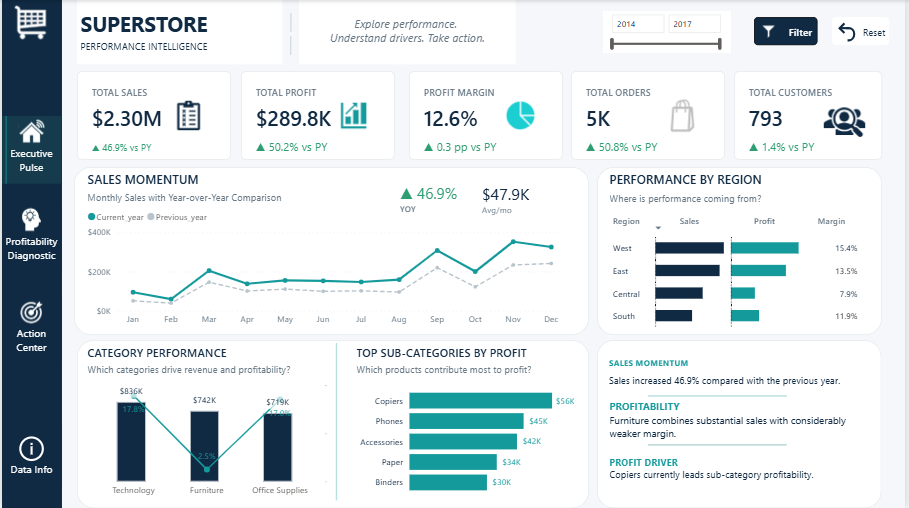

The dashboard page shown, as its layout file describes it:
{"tool":"powerbi","page":{"name":"Executive Pulse","canvas":[1280,720],"ordinal":0},"visuals":[{"type":"textbox","title":"SUPERSTORE","box":[105.8,0,290.6,90.7],"z":0},{"type":"shape","box":[105.8,482.1,725.7,238.5],"z":1000},{"type":"shape","box":[843.3,236.7,403.9,238.1],"z":2000},{"type":"shape","box":[102,236.7,729.9,238.1],"z":3000},{"type":"shape","box":[0,0,85,720.1],"z":4000},{"type":"shape","box":[352.9,18.6,113.1,27],"z":5000},{"type":"textbox","title":"Explore performance. Understand drivers. Take action.","box":[421.6,0,307.4,90.7],"z":6000},{"type":"shape","box":[352.8,50.4,112.5,26.9],"z":7000},{"type":"actionButton","box":[1066.4,24.3,90,40.4],"z":8000},{"type":"actionButton","box":[1175.7,24.3,80.7,40.4],"z":9000},{"type":"actionButton","box":[0,164.4,83.6,96.4],"z":10000},{"type":"shape","box":[0,164.6,11.8,95.7],"z":11000},{"type":"actionButton","box":[0,289.1,83.6,95],"z":12000},{"type":"actionButton","box":[0,419.5,83.6,96.4],"z":13000},{"type":"actionButton","box":[0,598.1,83.6,95],"z":14000},{"type":"actionButton","box":[0,0,84,63.8],"z":15000},{"type":"cardVisual","fields":{"Data":["Key measures.Total Sales"]},"box":[105.8,100.8,218.4,126],"z":16000},{"type":"cardVisual","fields":{"Data":["Key measures.Total_profit"]},"box":[339.3,100.8,218.4,126],"z":17000},{"type":"cardVisual","fields":{"Data":["Key measures.Total_customer"]},"box":[1037.5,100.6,209.8,126.1],"z":18000},{"type":"cardVisual","fields":{"Data":["Key measures.Total_orders"]},"box":[806.3,100.8,218.4,126],"z":19000},{"type":"cardVisual","fields":{"Data":["Key measures.Profit_margin %"]},"box":[576.2,100.8,218.4,126],"z":20000},{"type":"lineChart","title":"SALES MOMENTUM","fields":{"Y":["Key measures.Total_sales","Key measures.Previous_year_sales"],"Category":["Date.Month Short"]},"box":[116.2,242.4,688.8,228.2],"z":21000},{"type":"cardVisual","fields":{"Data":["Key measures.Sales_YoY_indicator_mini"]},"box":[547.1,242.4,116.2,70.9],"z":22000},{"type":"cardVisual","fields":{"Data":["Key measures.Average Monthly Sales"]},"box":[663.3,242.4,116.2,70.9],"z":23000},{"type":"pivotTable","title":"PERFORMANCE BY REGION","fields":{"Rows":["Superstore_data.Region"],"Values":["Key measures.Total_sales","Key measures.Total_profit","Key measures.Profit_margin"]},"box":[856.7,241.9,374.6,226.8],"z":24000},{"type":"lineClusteredColumnComboChart","title":"CATEGORY PERFORMANCE","fields":{"Y":["Key measures.Total_sales"],"Y2":["Key measures.Profit_margin"],"Category":["Superstore_data.Category"]},"box":[115.9,488.8,381.3,223.4],"z":25000},{"type":"clusteredBarChart","title":"TOP SUB-CATEGORIES BY PROFIT","fields":{"Y":["Key measures.Total_profit"],"Category":["Superstore_data.Sub_category"]},"box":[497.2,488.8,319.2,223.4],"z":26000},{"type":"shape","box":[843.3,482.1,403.1,238.5],"z":27000},{"type":"cardVisual","fields":{"Data":["Key measures.Sales Insight"]},"box":[843.3,488.8,388,72.2],"z":28000},{"type":"textbox","box":[856.7,561,374.6,70.6],"z":29000},{"type":"textbox","box":[856.7,641.7,374.6,70.6],"z":30000},{"type":"shape","box":[324.2,485.5,299,223.4],"z":31000},{"type":"shape","box":[915.5,525.8,196.5,70.6],"z":32000},{"type":"shape","box":[915.5,591.3,196.5,79],"z":33000},{"type":"slicer","fields":{"Values":["Date.Year"]},"box":[851.7,15.1,181.4,58.8],"z":35000},{"type":"actionButton","box":[235.3,134.6,70.9,58.1],"z":35001},{"type":"actionButton","box":[469.1,134.6,73.7,58.1],"z":35002},{"type":"actionButton","box":[705.8,134.6,73.7,58.1],"z":35003},{"type":"actionButton","box":[935.4,134.6,78,58.1],"z":35004},{"type":"actionButton","box":[1156.5,134.6,75.1,78],"z":35005}]}

Visuals, with their boxes in screenshot pixels (x1, y1, x2, y2), scaled from the page's 1280x720 canvas onto the 909x508 screenshot:
"SUPERSTORE" textbox: {"x1": 75, "y1": 0, "x2": 282, "y2": 64}
shape: {"x1": 75, "y1": 340, "x2": 590, "y2": 507}
shape: {"x1": 599, "y1": 167, "x2": 886, "y2": 335}
shape: {"x1": 72, "y1": 167, "x2": 591, "y2": 335}
shape: {"x1": 0, "y1": 0, "x2": 60, "y2": 507}
shape: {"x1": 251, "y1": 13, "x2": 331, "y2": 32}
"Explore performance. Understand drivers. Take action." textbox: {"x1": 299, "y1": 0, "x2": 518, "y2": 64}
shape: {"x1": 251, "y1": 36, "x2": 330, "y2": 55}
actionButton: {"x1": 757, "y1": 17, "x2": 821, "y2": 46}
actionButton: {"x1": 835, "y1": 17, "x2": 892, "y2": 46}
actionButton: {"x1": 0, "y1": 116, "x2": 59, "y2": 184}
shape: {"x1": 0, "y1": 116, "x2": 8, "y2": 184}
actionButton: {"x1": 0, "y1": 204, "x2": 59, "y2": 271}
actionButton: {"x1": 0, "y1": 296, "x2": 59, "y2": 364}
actionButton: {"x1": 0, "y1": 422, "x2": 59, "y2": 489}
actionButton: {"x1": 0, "y1": 0, "x2": 60, "y2": 45}
cardVisual - Key measures.Total Sales: {"x1": 75, "y1": 71, "x2": 230, "y2": 160}
cardVisual - Key measures.Total_profit: {"x1": 241, "y1": 71, "x2": 396, "y2": 160}
cardVisual - Key measures.Total_customer: {"x1": 737, "y1": 71, "x2": 886, "y2": 160}
cardVisual - Key measures.Total_orders: {"x1": 573, "y1": 71, "x2": 728, "y2": 160}
cardVisual - Key measures.Profit_margin %: {"x1": 409, "y1": 71, "x2": 564, "y2": 160}
"SALES MOMENTUM" lineChart: {"x1": 83, "y1": 171, "x2": 572, "y2": 332}
cardVisual - Key measures.Sales_YoY_indicator_mini: {"x1": 389, "y1": 171, "x2": 471, "y2": 221}
cardVisual - Key measures.Average Monthly Sales: {"x1": 471, "y1": 171, "x2": 554, "y2": 221}
"PERFORMANCE BY REGION" pivotTable: {"x1": 608, "y1": 171, "x2": 874, "y2": 331}
"CATEGORY PERFORMANCE" lineClusteredColumnComboChart: {"x1": 82, "y1": 345, "x2": 353, "y2": 502}
"TOP SUB-CATEGORIES BY PROFIT" clusteredBarChart: {"x1": 353, "y1": 345, "x2": 580, "y2": 502}
shape: {"x1": 599, "y1": 340, "x2": 885, "y2": 507}
cardVisual - Key measures.Sales Insight: {"x1": 599, "y1": 345, "x2": 874, "y2": 396}
textbox: {"x1": 608, "y1": 396, "x2": 874, "y2": 446}
textbox: {"x1": 608, "y1": 453, "x2": 874, "y2": 503}
shape: {"x1": 230, "y1": 343, "x2": 443, "y2": 500}
shape: {"x1": 650, "y1": 371, "x2": 790, "y2": 421}
shape: {"x1": 650, "y1": 417, "x2": 790, "y2": 473}
slicer - Date.Year: {"x1": 605, "y1": 11, "x2": 734, "y2": 52}
actionButton: {"x1": 167, "y1": 95, "x2": 217, "y2": 136}
actionButton: {"x1": 333, "y1": 95, "x2": 385, "y2": 136}
actionButton: {"x1": 501, "y1": 95, "x2": 554, "y2": 136}
actionButton: {"x1": 664, "y1": 95, "x2": 720, "y2": 136}
actionButton: {"x1": 821, "y1": 95, "x2": 875, "y2": 150}
